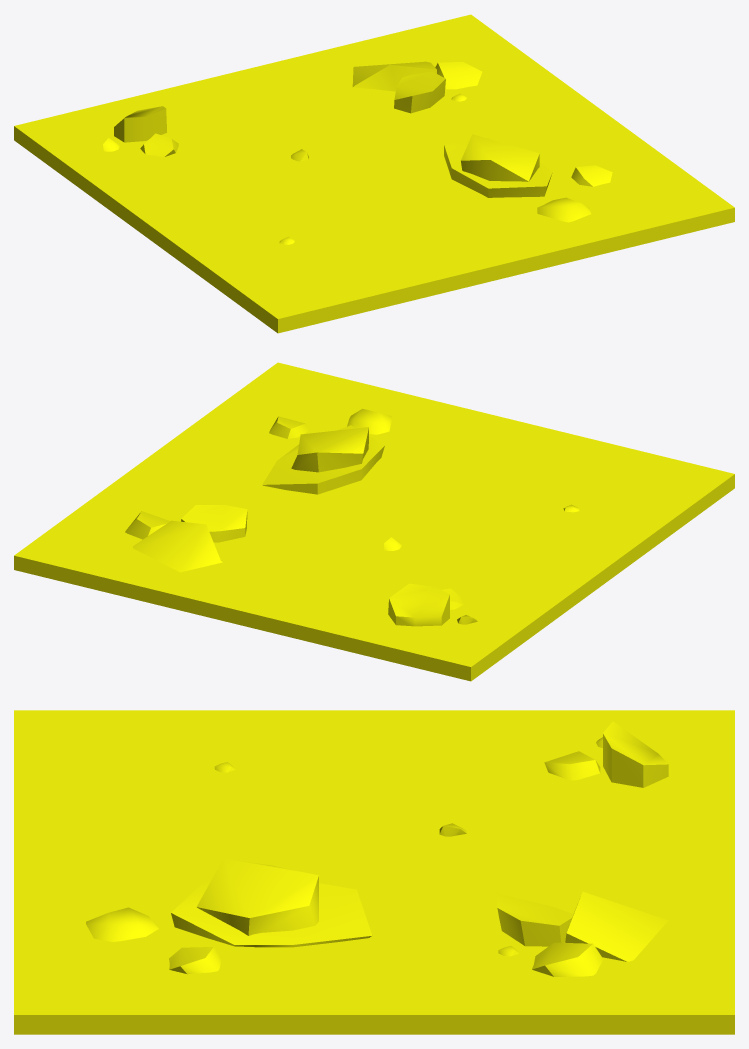
The model's file is kaykit-floor-dirt-large-rocky.glb.
3 views of the same model, one above another, from view 1: azimuth 30°, elevation 25°; view 2: azimuth 150°, elevation 25°; view 3: azimuth 270°, elevation 25° (orthographic). The views are drawn at different scales.
Parts seen in each view (by area): view 1: floor_dirt_large_rocky; view 2: floor_dirt_large_rocky; view 3: floor_dirt_large_rocky.
Part boxes in pixels (box(x1,y1,x2,y2)): floor_dirt_large_rocky: box(14, 14, 734, 333); floor_dirt_large_rocky: box(14, 362, 734, 681); floor_dirt_large_rocky: box(14, 710, 734, 1034).
Bounding box in the file's own units: 4 × 0.3926 × 4.
